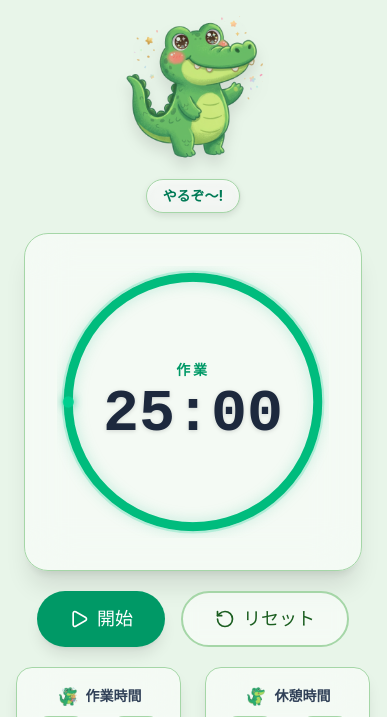
PomodoroTimer › リセットボタンでタイマーが初期化されること
# 開始して少し進める
Click the button "開始": (101,619) top-left (37, 591), bottom-right (165, 647)
Wait 3000 ms
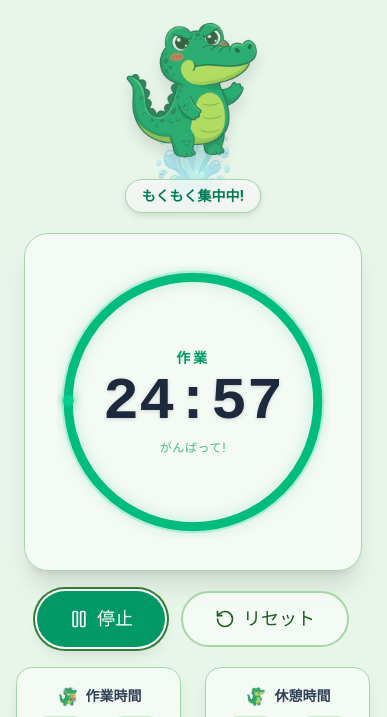
Click the button "リセット": (265,619) top-left (181, 591), bottom-right (349, 647)
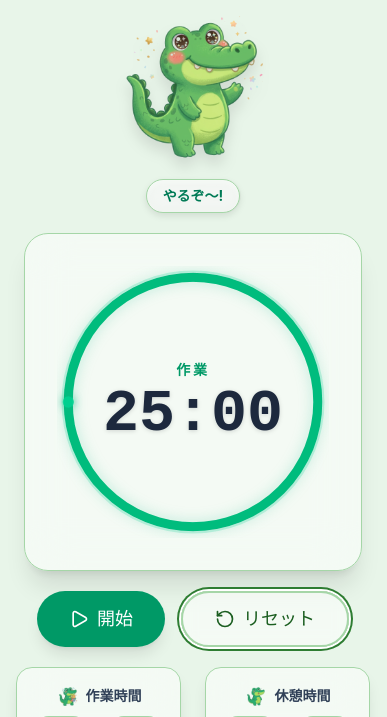
Expected: the text "25:00" is shown, top-left (103, 384), bottom-right (283, 444)
Expected: the button "開始" is shown, top-left (37, 591), bottom-right (165, 647)
